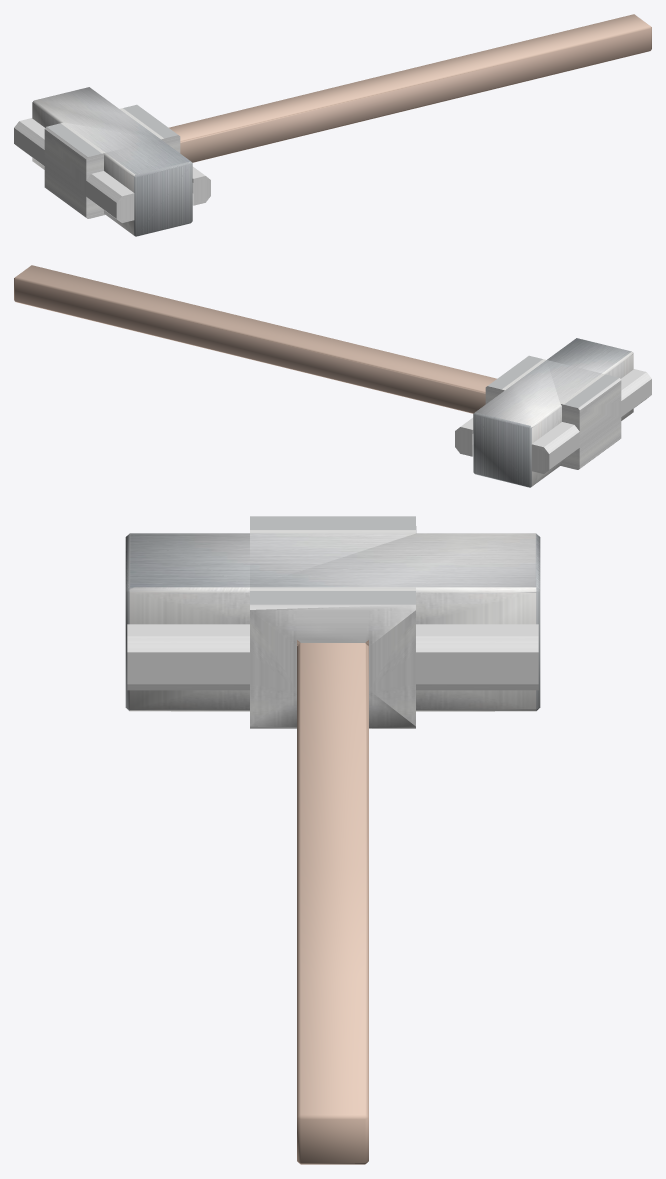
The picture shows the model from 3 angles, top to bottom: view 1: azimuth 30°, elevation 25°; view 2: azimuth 150°, elevation 25°; view 3: azimuth 270°, elevation 25°; orthographic projection. The views are drawn at different scales.
Parts seen in each view (by area): view 1: Box001; view 2: Box001; view 3: Box001.
Boxes of the visible parts, x1,y1,x2,y2 form: Box001: (14,14,651,236); Box001: (14,265,651,487); Box001: (125,516,540,1164).
Size of the model in its own units: 13.07 by 1.34 by 4.06.
2 materials, 2 textured.
